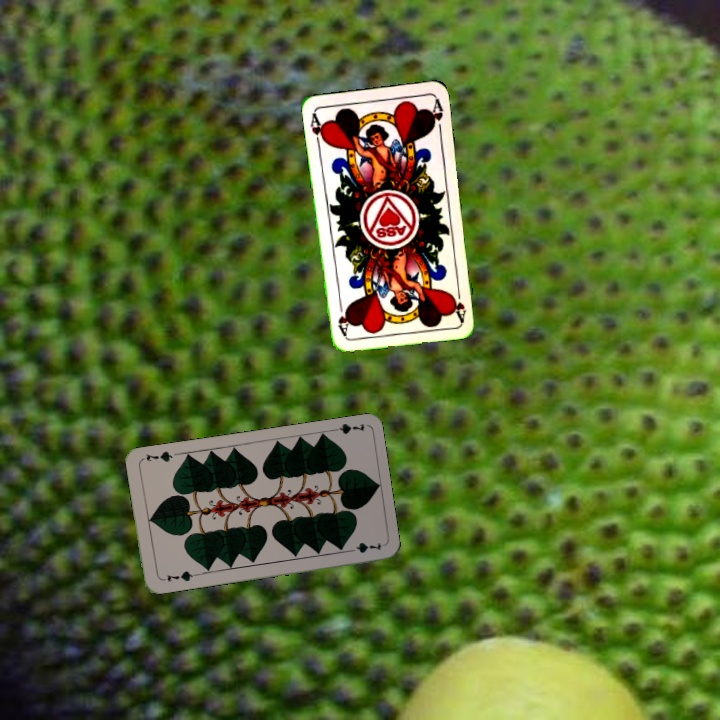G7: (326, 419, 367, 436), (163, 567, 198, 584)
HA: (306, 109, 328, 150), (448, 282, 469, 323)
